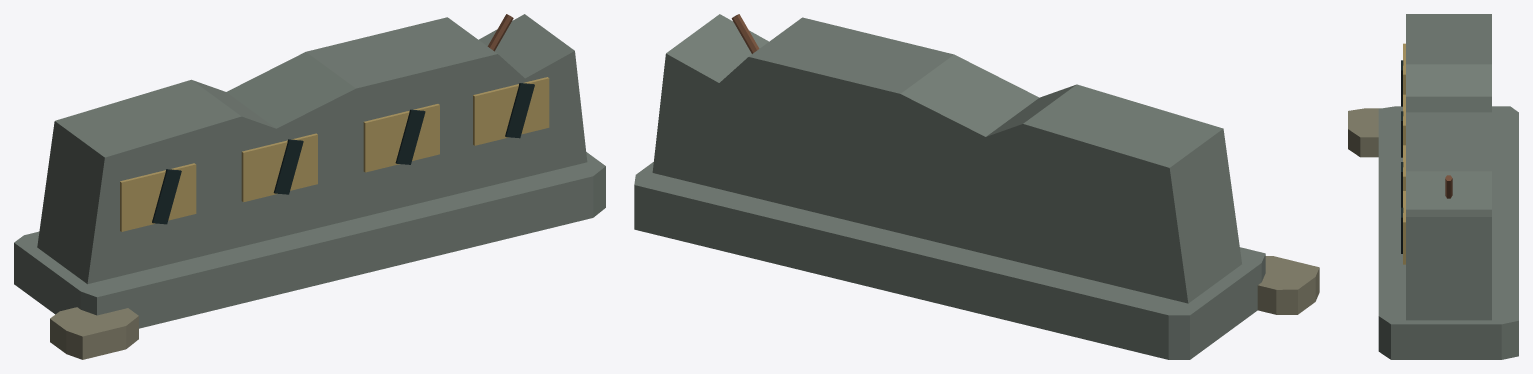
Rendered from lv119-damaged-road-barrier.glb.
3 renders of one model, left to right at view 1: azimuth 30°, elevation 25°; view 2: azimuth 150°, elevation 25°; view 3: azimuth 270°, elevation 25°, orthographic. The views are drawn at different scales.
Parts seen in each view (by area): view 1: damaged-road-barrier; view 2: damaged-road-barrier; view 3: damaged-road-barrier.
Boxes of the visible parts, x1,y1,x2,y2 form: damaged-road-barrier: (14, 14, 605, 359); damaged-road-barrier: (634, 14, 1319, 359); damaged-road-barrier: (1348, 14, 1518, 359).
Size of the model in its own units: 2.23 by 0.7074 by 0.695.
